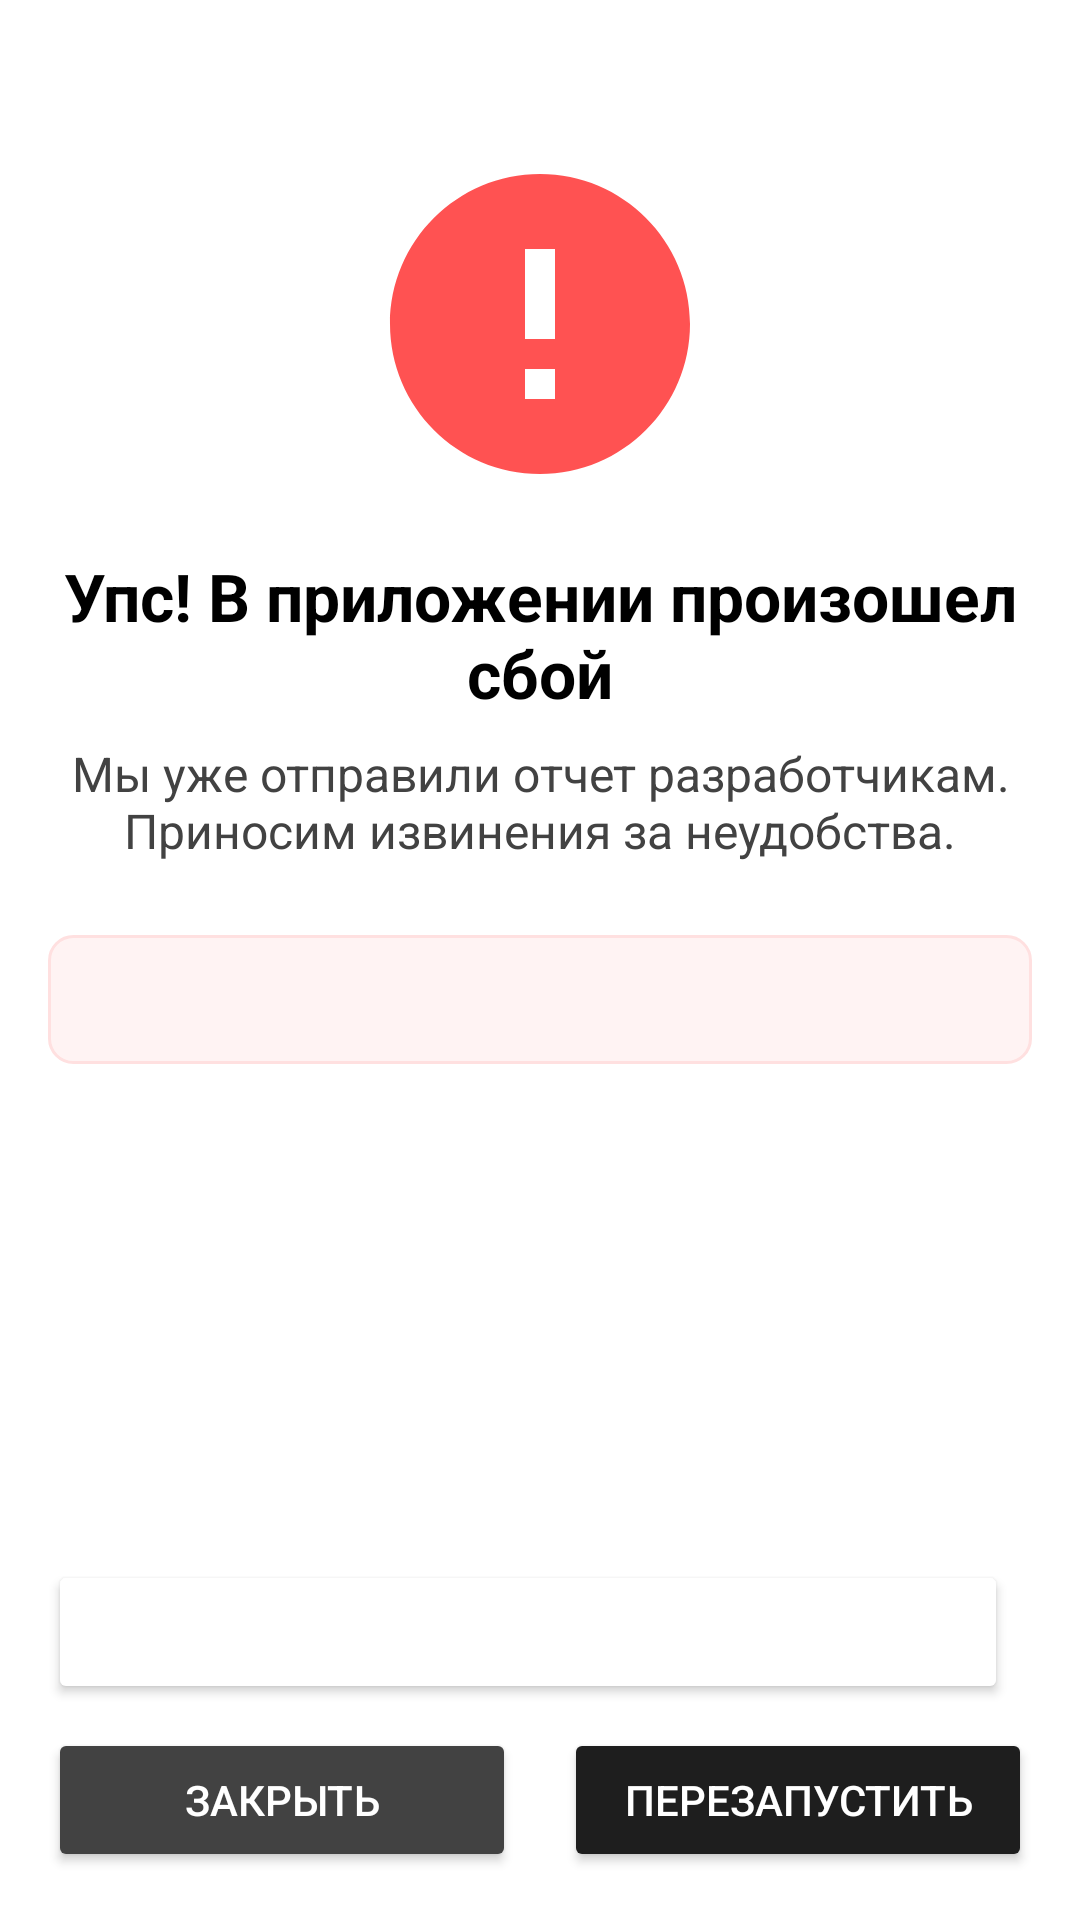

Locate icon controls on the screen. Image size 1080×1920, boxes as [x1=x1, y1=y1, x2=x2, y2=y2].
Иконка ошибки: [x1=390, y1=174, x2=690, y2=474]
